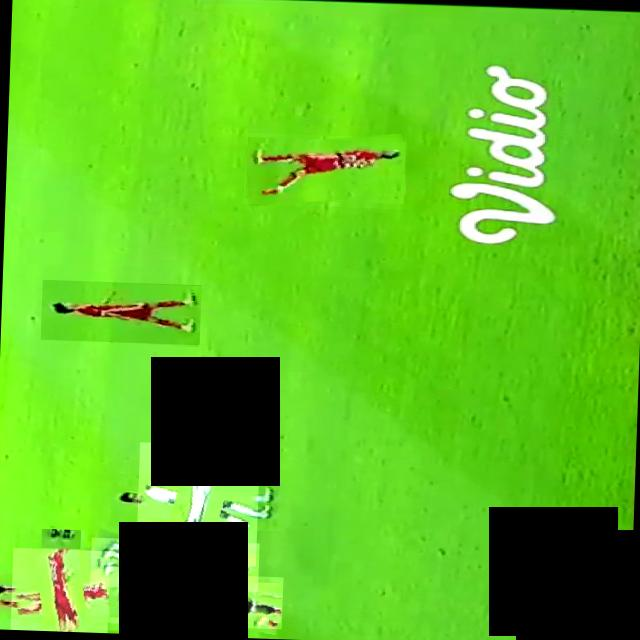referee: (106, 571, 282, 629)
soccer-player: (134, 442, 258, 566), (242, 132, 405, 209), (39, 279, 200, 345), (89, 537, 258, 592), (9, 548, 109, 632), (120, 589, 201, 636)
